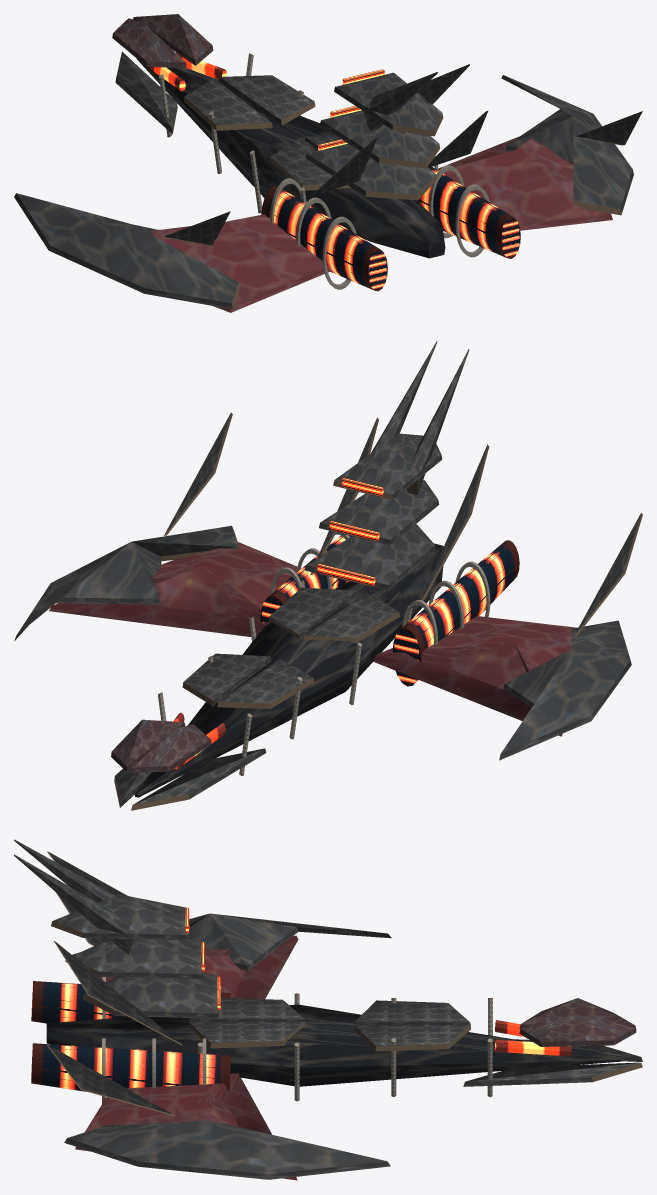
Rendered from dynasty_cruiser_recreated_lod1.glb.
3 renders of one model, top to bottom at view 1: azimuth 30°, elevation 25°; view 2: azimuth 150°, elevation 25°; view 3: azimuth 270°, elevation 25°, orthographic. The views are drawn at different scales.
Parts seen in each view (by area): view 1: dynasty_cruiser_lod_source; view 2: dynasty_cruiser_lod_source; view 3: dynasty_cruiser_lod_source.
Part boxes in pixels (box(x1,y1,x2,y2)): dynasty_cruiser_lod_source: box(14, 14, 642, 312); dynasty_cruiser_lod_source: box(14, 341, 642, 810); dynasty_cruiser_lod_source: box(14, 839, 642, 1180).
Size of the model in its own units: 2.73 by 1.17 by 2.85.
Materials: 1 (1 with a texture image).
